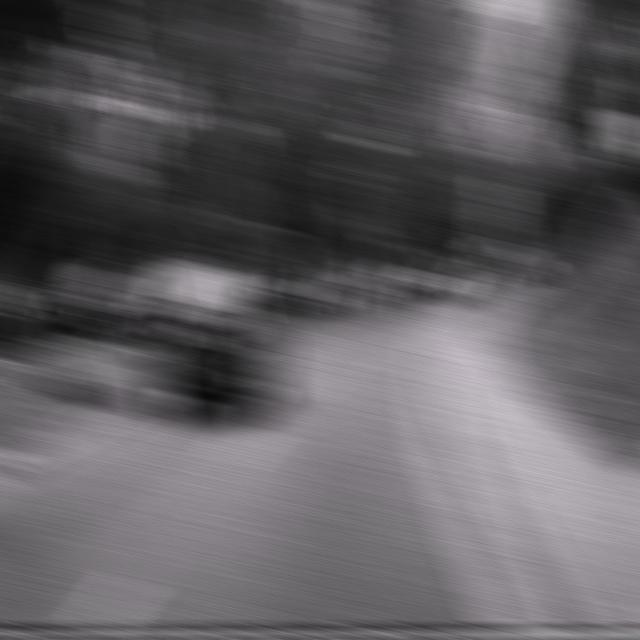speedLimit25: (482, 203, 519, 246)
